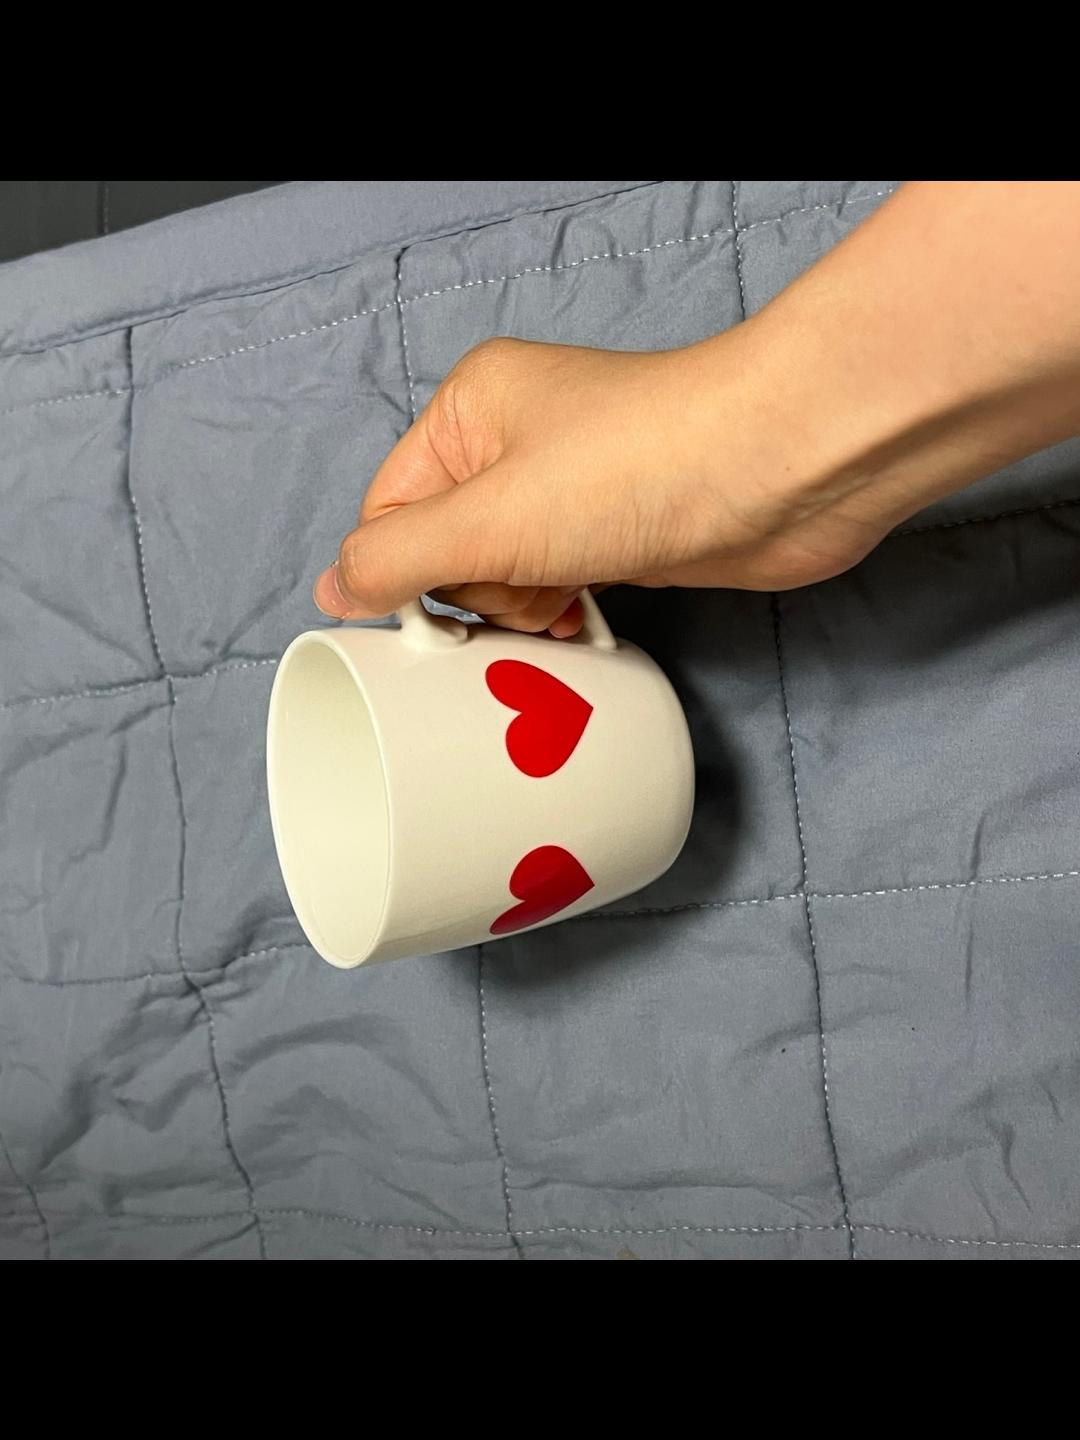cup: (258, 308, 912, 982)
